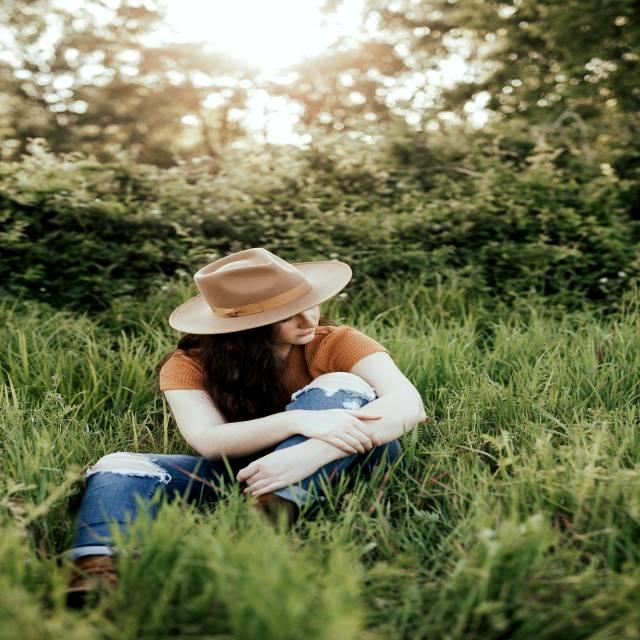no_hard_hat: (169, 248, 352, 334)
person: (67, 249, 426, 607)
